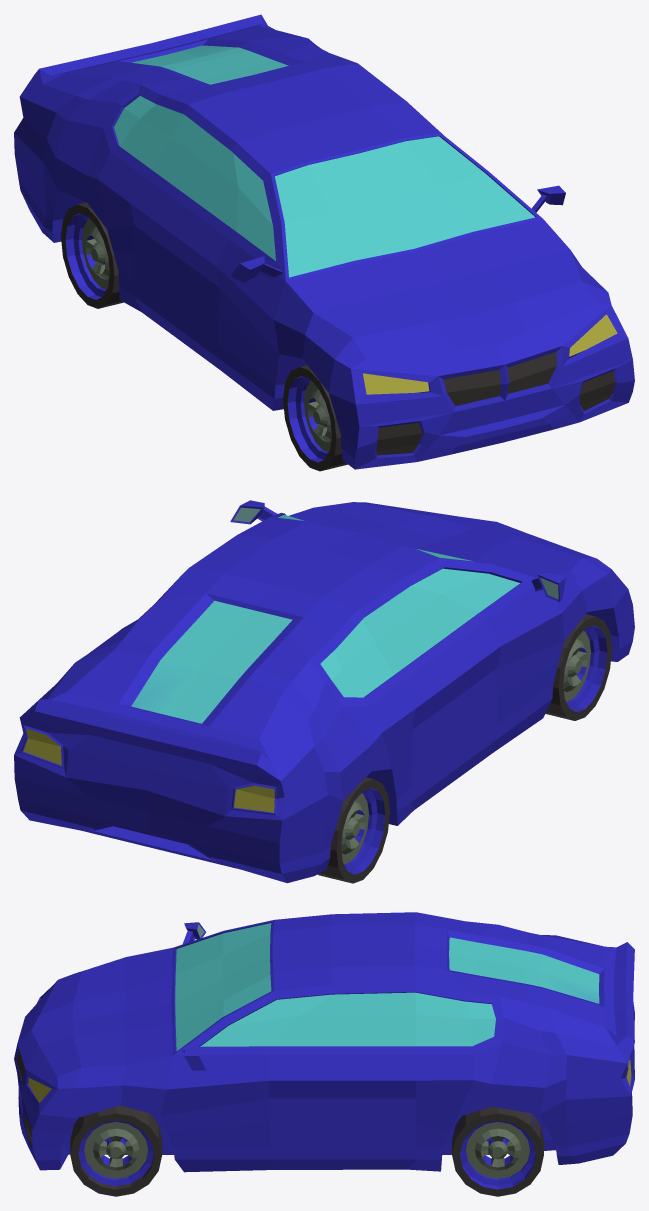
The model's file is TI2 ASSETS (ComColorAtributeMAt).fbx_Car.fbx.
The picture shows the model from 3 angles, top to bottom: view 1: azimuth 30°, elevation 25°; view 2: azimuth 150°, elevation 25°; view 3: azimuth 270°, elevation 25°; orthographic projection. The views are drawn at different scales.
Visible parts, largest first — view 1: Car; view 2: Car; view 3: Car.
Part boxes in pixels (x1,y1,x2,y2): Car: [14, 14, 634, 471]; Car: [14, 500, 634, 883]; Car: [14, 912, 634, 1196].
Bounding box in the file's own units: 298 × 195 × 564.
